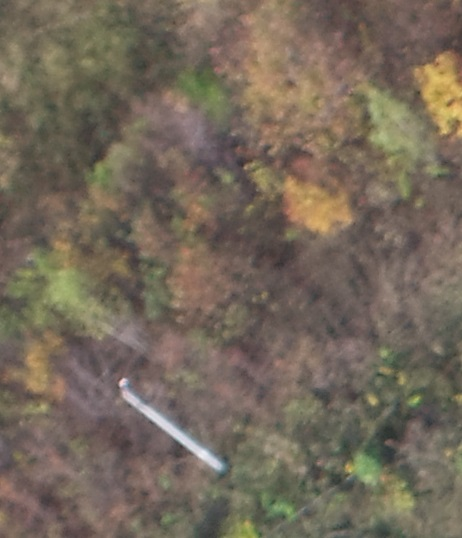opora: (114, 372, 229, 477)
